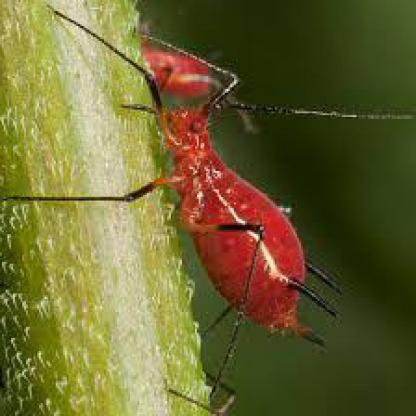uroleucon compositae: (10, 6, 347, 402)
